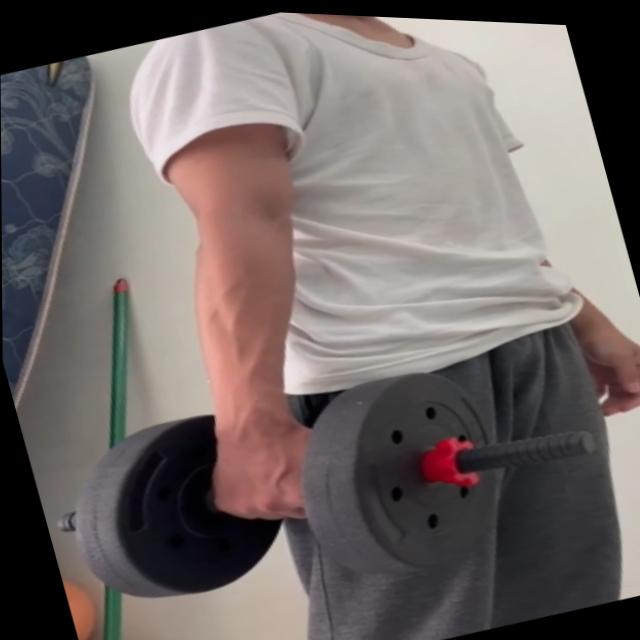hammer: (48, 332, 527, 640)
